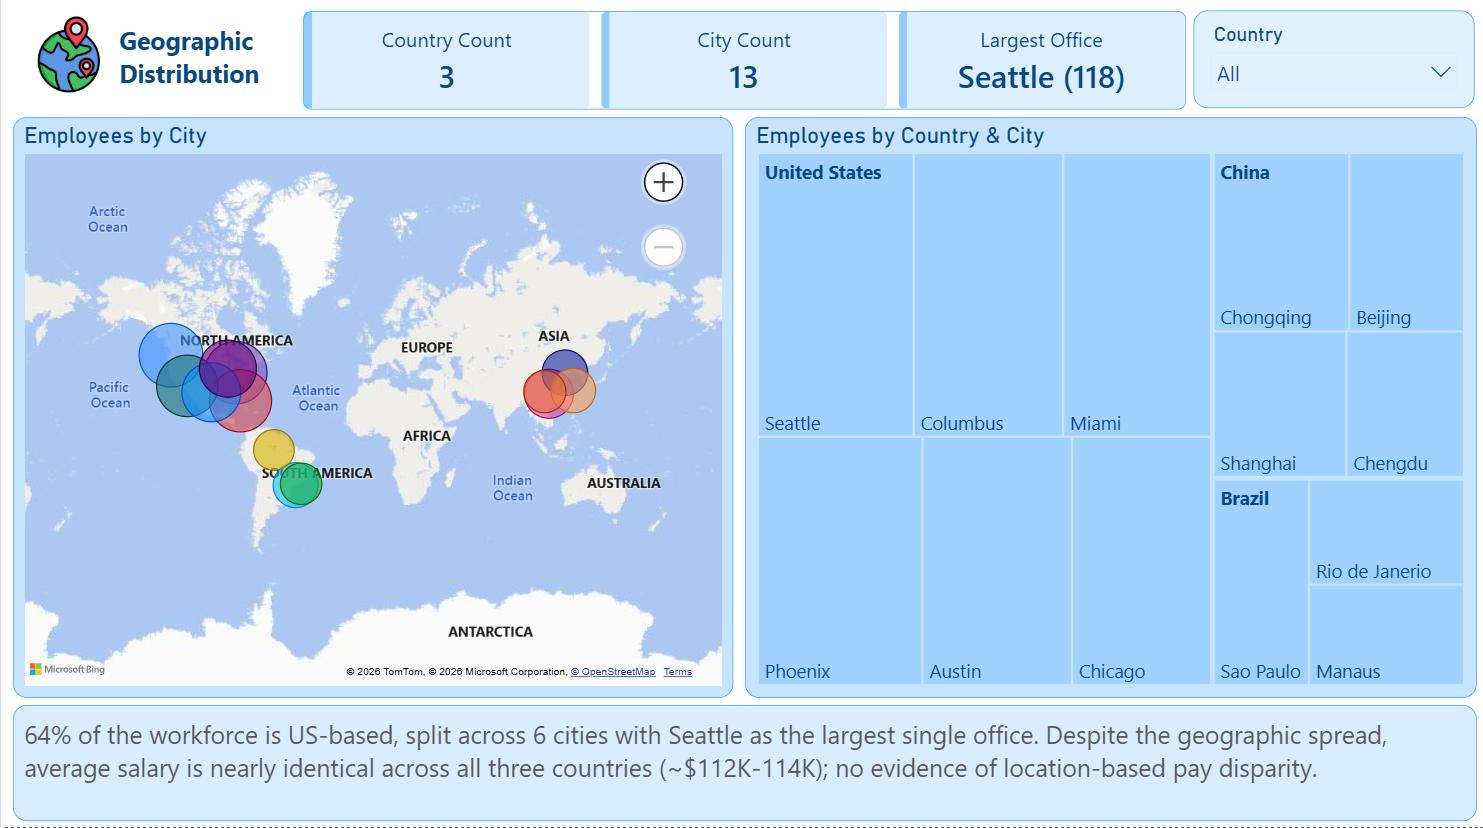

Layout of this report page (visuals, bound fields, positions):
{"tool":"powerbi","page":{"name":"Geographic Distribution","canvas":[1280,720],"ordinal":1},"visuals":[{"type":"map","title":"Employees by City","fields":{"Y":["Dim_Geography.Latitude"],"X":["Dim_Geography.Longitude"],"Series":["Dim_Geography.City"],"Size":["Measures_Table.Total Employees"]},"box":[10.6,109,620,500],"z":0},{"type":"treemap","title":"Employees by Country & City","fields":{"Group":["Dim_Geography.Country"],"Values":["Measures_Table.Total Employees"],"Details":["Dim_Geography.City"]},"box":[640.5,109,630,500],"z":1000},{"type":"slicer","fields":{"Values":["Dim_Geography.Country"]},"box":[1026.7,17.2,242,84],"z":2000},{"type":"textbox","box":[10.6,614.8,1260,100],"z":3000},{"type":"textbox","box":[96.7,21.8,145.4,75],"z":4000},{"type":"image","box":[18.7,21.8,78,65],"z":5000},{"type":"cardVisual","fields":{"Data":["Measures_Table.Country Count","Measures_Table.City Count","Measures_Table.Largest Office"]},"box":[242.3,0,796.5,119],"z":6000}]}

Visuals, with their boxes in screenshot pixels (x1, y1, x2, y2), scaled from the page's 1280x720 canvas onto the 1483x828 screenshot:
"Employees by City" map: <bbox>12, 125, 731, 700</bbox>
"Employees by Country & City" treemap: <bbox>742, 125, 1472, 700</bbox>
slicer - Dim_Geography.Country: <bbox>1190, 20, 1470, 116</bbox>
textbox: <bbox>12, 707, 1472, 822</bbox>
textbox: <bbox>112, 25, 280, 111</bbox>
image: <bbox>22, 25, 112, 100</bbox>
cardVisual - Measures_Table.Country Count x Measures_Table.City Count: <bbox>281, 0, 1204, 137</bbox>
